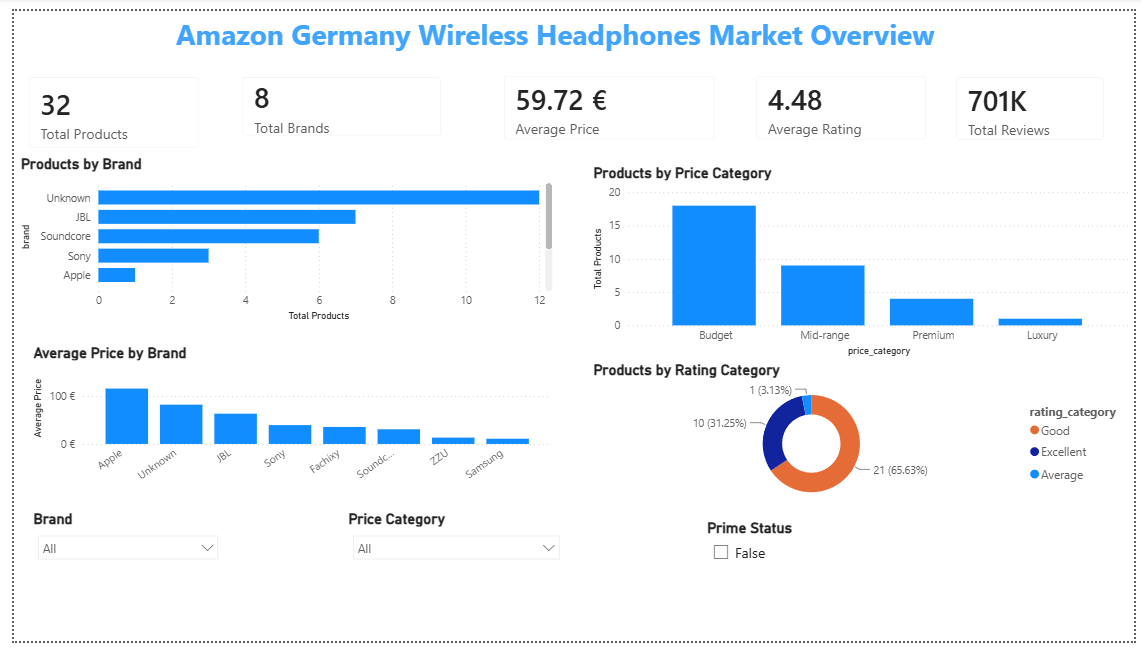

What the dashboard file says about the page in this screenshot:
{"tool":"powerbi","page":{"name":"Market Overview","canvas":[1280,720],"ordinal":0},"visuals":[{"type":"textbox","box":[180,0,880,58.8],"z":0},{"type":"cardVisual","title":"Total Products","fields":{"Data":["_Measures.Total Products"]},"box":[0,58.8,228.8,115],"z":1000},{"type":"cardVisual","fields":{"Data":["_Measures.Total Brands"]},"box":[243.8,58.8,261.2,101.2],"z":2000},{"type":"cardVisual","fields":{"Data":["_Measures.Average Price"]},"box":[542.2,57.8,275.6,107.8],"z":3000},{"type":"cardVisual","fields":{"Data":["_Measures.Average Rating"]},"box":[831.2,57.5,228.8,107.5],"z":4000},{"type":"cardVisual","fields":{"Data":["_Measures.Total Reviews"]},"box":[1060,58.8,203.8,106.2],"z":5000},{"type":"clusteredBarChart","title":"Products by Brand","fields":{"Category":["public dim_products.brand"],"Y":["_Measures.Total Products"]},"box":[2.5,165,617.5,195],"z":6000},{"type":"clusteredColumnChart","title":"Products by Price Category","fields":{"Category":["latest_product_observations.price_category"],"Y":["_Measures.Total Products"]},"box":[657.5,175,622.5,225],"z":7000},{"type":"clusteredColumnChart","title":"Average Price by Brand","fields":{"Category":["public dim_products.brand"],"Y":["_Measures.Average Price"]},"box":[17.5,380,602.5,170],"z":8000},{"type":"donutChart","title":"Products by Rating Category","fields":{"Category":["latest_product_observations.rating_category"],"Y":["_Measures.Total Products"]},"box":[657.5,400,622.5,170],"z":9000},{"type":"slicer","title":"Brand","fields":{"Values":["public dim_products.brand"]},"box":[17.5,570,226.2,150],"z":10000},{"type":"slicer","title":"Price Category","fields":{"Values":["latest_product_observations.price_category"]},"box":[377.5,570,256.2,140],"z":11000},{"type":"slicer","title":"Prime Status","fields":{"Values":["latest_product_observations.is_prime"]},"box":[787.5,580,232.5,117.5],"z":12000}]}

Visuals, with their boxes in screenshot pixels (x1, y1, x2, y2), scaled from the page's 1280x720 canvas onto the 1141x657 screenshot:
textbox: (160,0,945,54)
"Total Products" cardVisual: (0,54,204,159)
cardVisual - _Measures.Total Brands: (217,54,450,146)
cardVisual - _Measures.Average Price: (483,53,729,151)
cardVisual - _Measures.Average Rating: (741,52,945,151)
cardVisual - _Measures.Total Reviews: (945,54,1127,151)
"Products by Brand" clusteredBarChart: (2,151,553,328)
"Products by Price Category" clusteredColumnChart: (586,160,1140,365)
"Average Price by Brand" clusteredColumnChart: (16,347,553,502)
"Products by Rating Category" donutChart: (586,365,1140,520)
"Brand" slicer: (16,520,217,656)
"Price Category" slicer: (337,520,565,648)
"Prime Status" slicer: (702,529,909,636)
